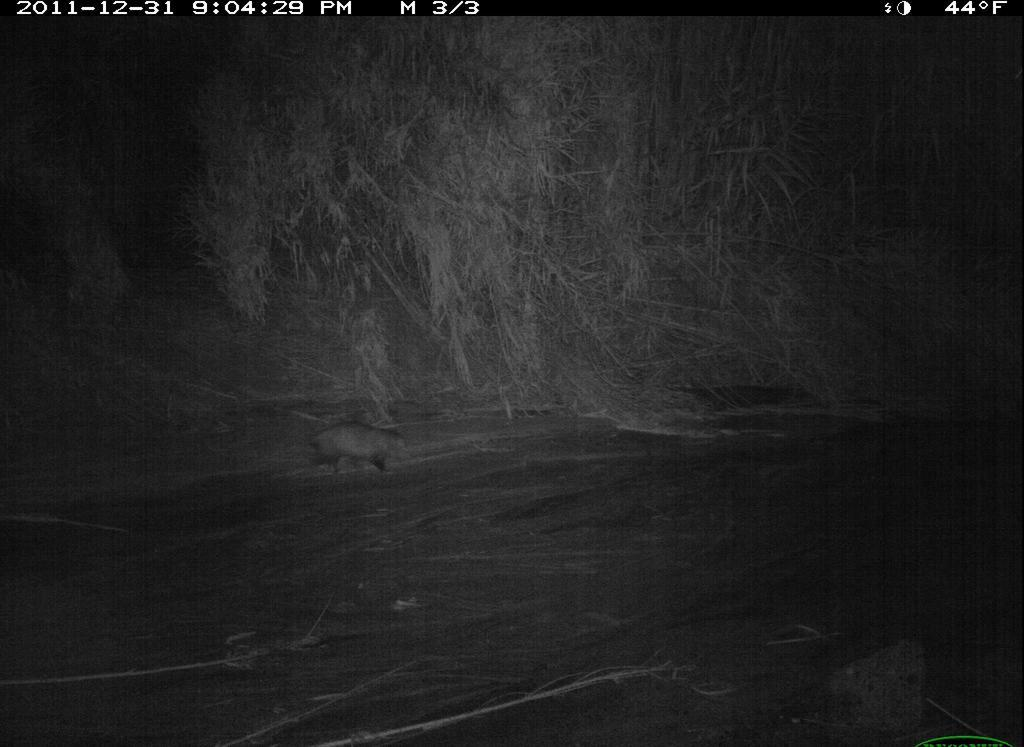opossum: (255, 414, 420, 488)
